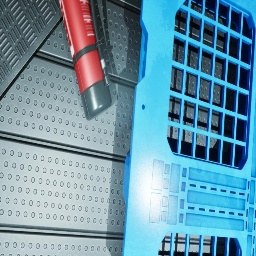FireExtinguisher ]: (59, 0, 112, 121)
